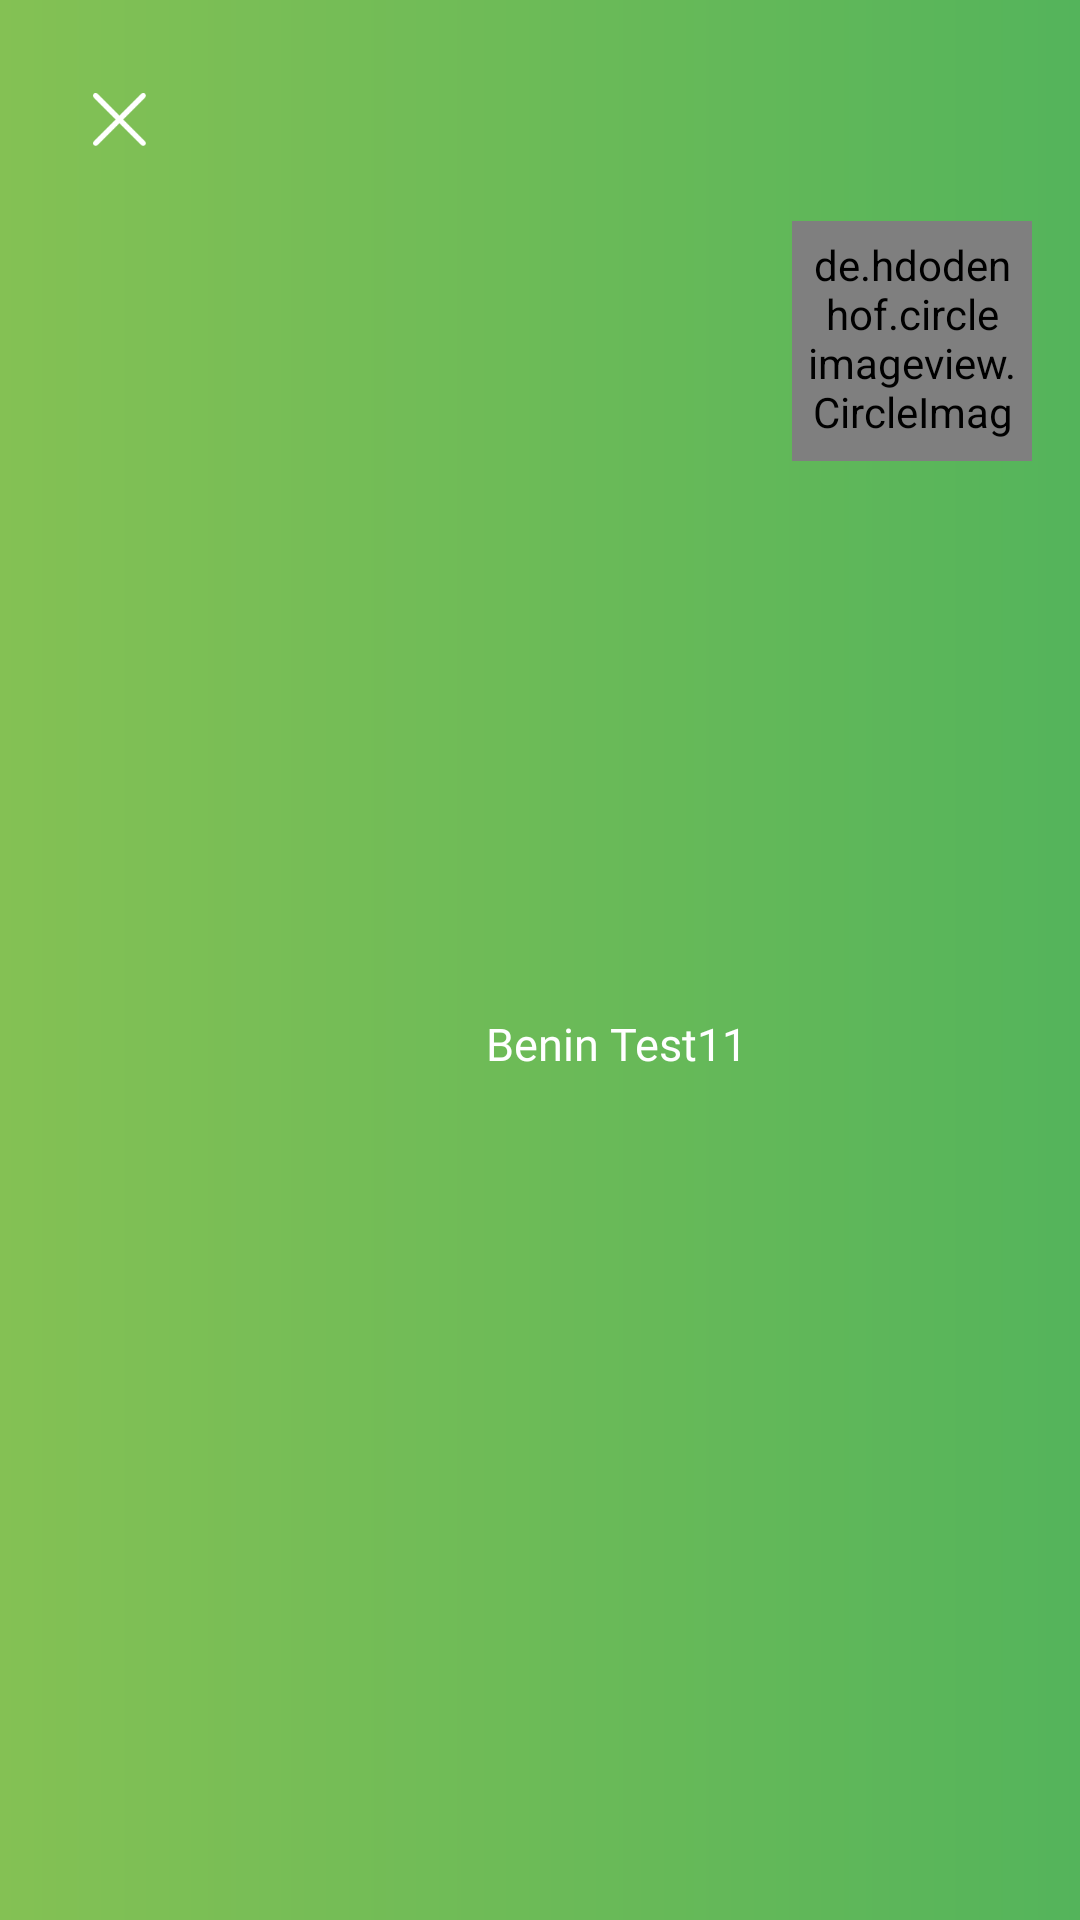

Locate icon controls on the screen. Image size 1080 × 1920, boxes as (x1, y1, x2, y2).
close: (93, 93, 146, 146)
